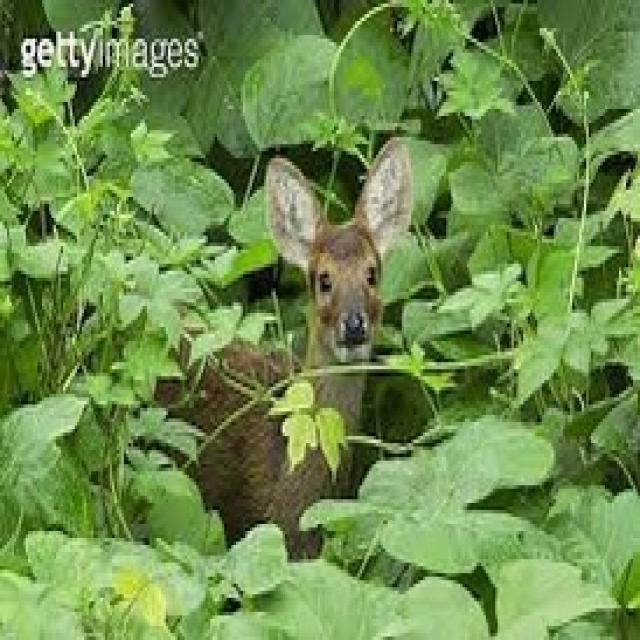elk: (52, 136, 467, 557)
